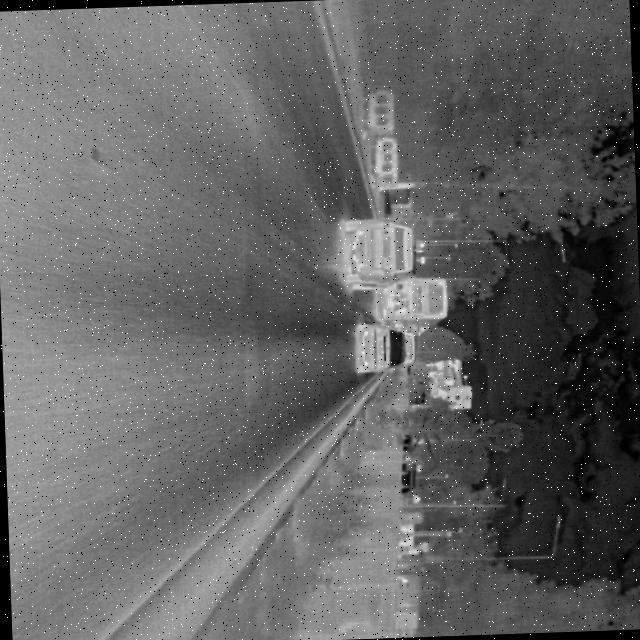Vehicle: (338, 214, 422, 293), (376, 274, 451, 324), (352, 321, 406, 375)
